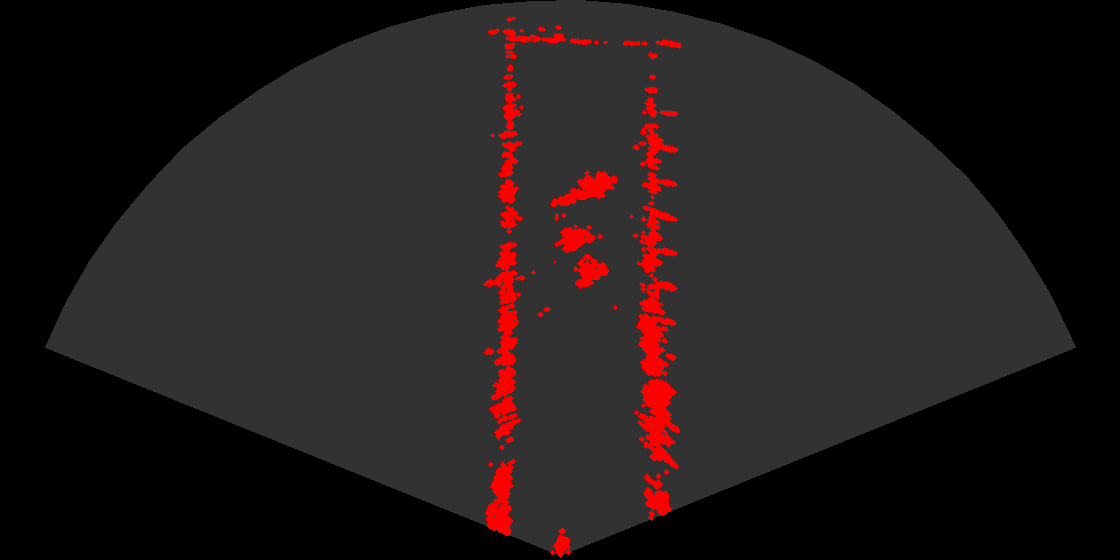cage: (554, 213, 617, 297)
frogman: (549, 164, 617, 211)
